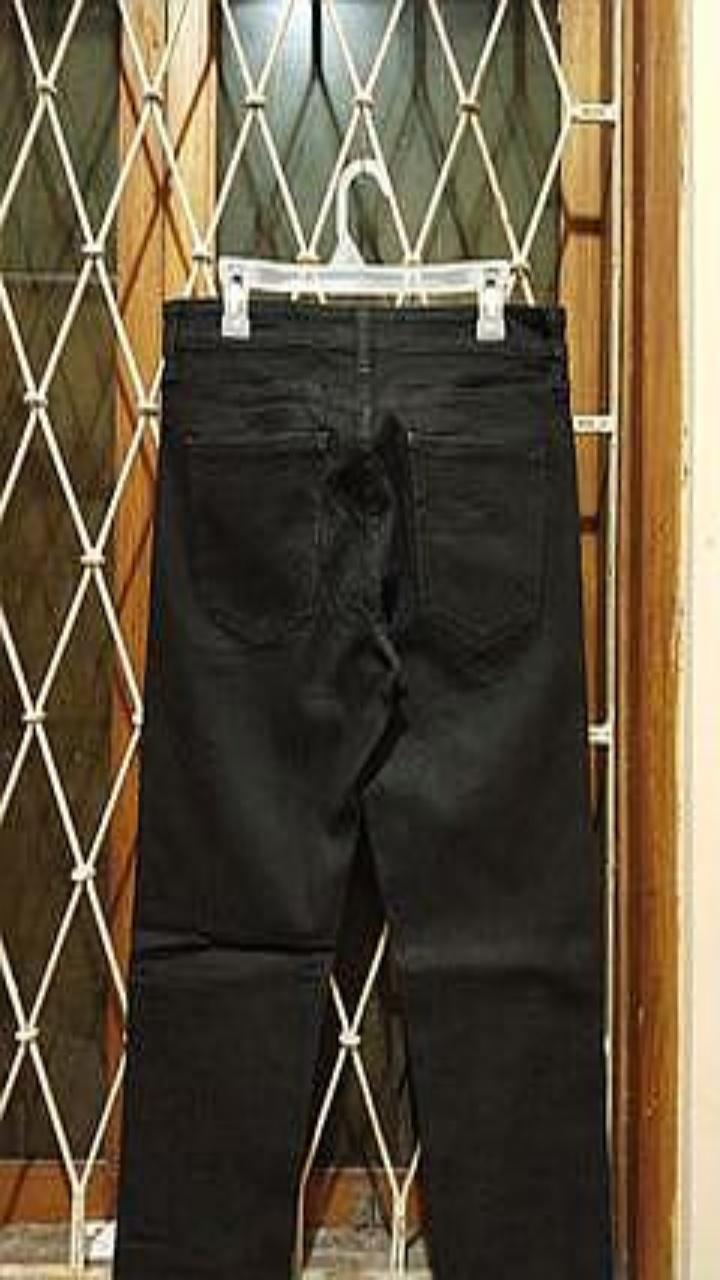Jeans: (114, 297, 611, 1279)
